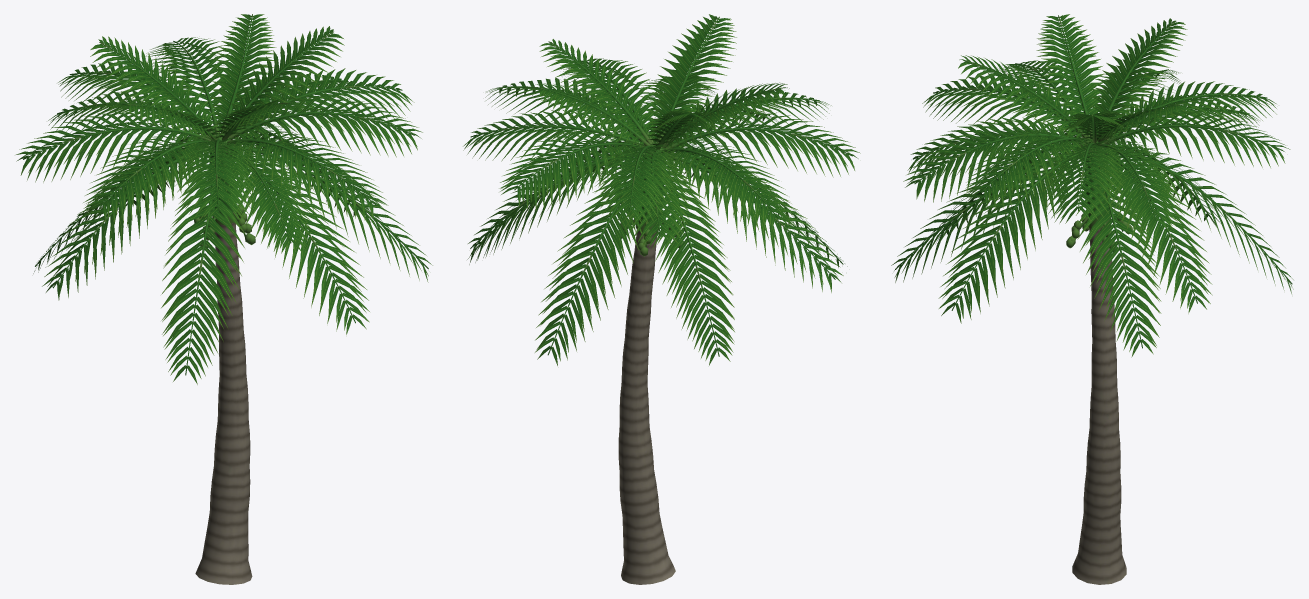
The model's file is veg-tree-palm-royal-lod0-dc5643335352.glb.
3 views of the same model, side by side, from view 1: azimuth 30°, elevation 25°; view 2: azimuth 150°, elevation 25°; view 3: azimuth 270°, elevation 25° (orthographic). The views are drawn at different scales.
Visible parts, largest first — view 1: veg-tree-palm-royal_lod0; view 2: veg-tree-palm-royal_lod0; view 3: veg-tree-palm-royal_lod0.
Boxes of the visible parts, <box> form: veg-tree-palm-royal_lod0: <box>16,14,432,584</box>; veg-tree-palm-royal_lod0: <box>463,14,860,584</box>; veg-tree-palm-royal_lod0: <box>891,14,1293,584</box>.
Bounding box in the file's own units: 6.07 × 8.5 × 6.06.
3 materials, 3 textured.
